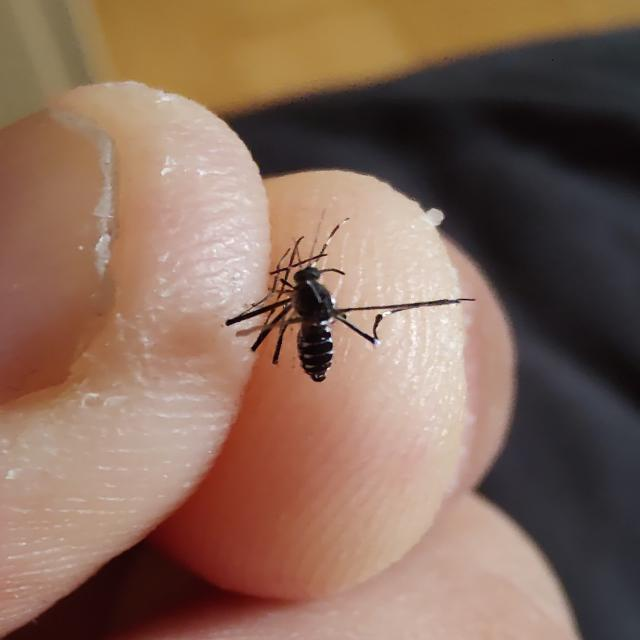albopictus: (221, 204, 470, 384)
